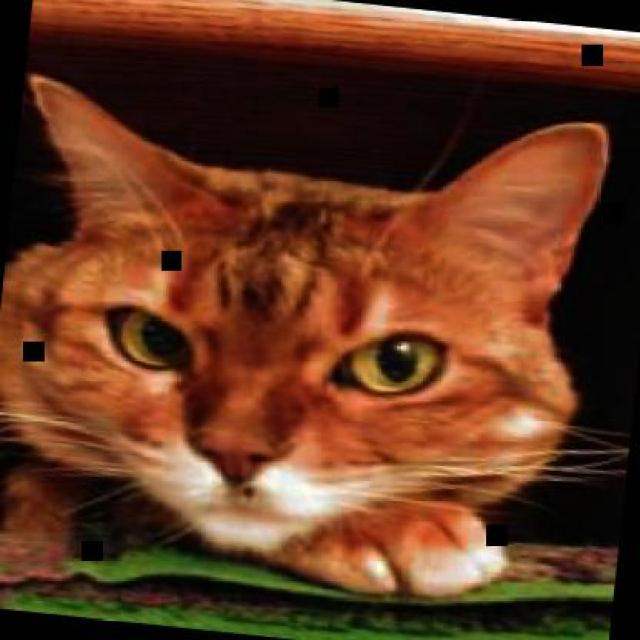cat: (0, 60, 618, 621)
